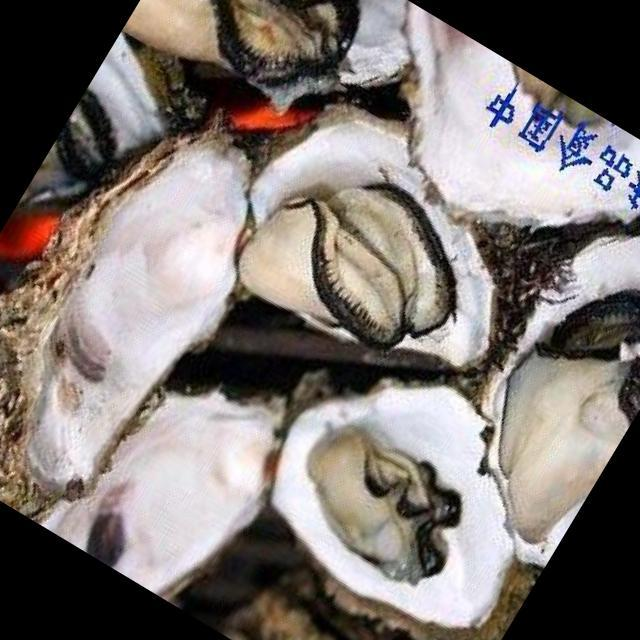Oyster-Open: (0, 0, 578, 640), (36, 234, 603, 640), (390, 153, 640, 577), (317, 0, 640, 307), (114, 0, 444, 181)
